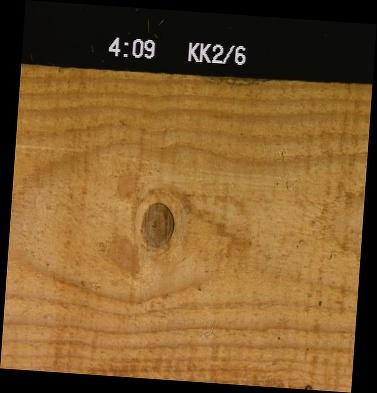dry_knot: (139, 200, 174, 248)
